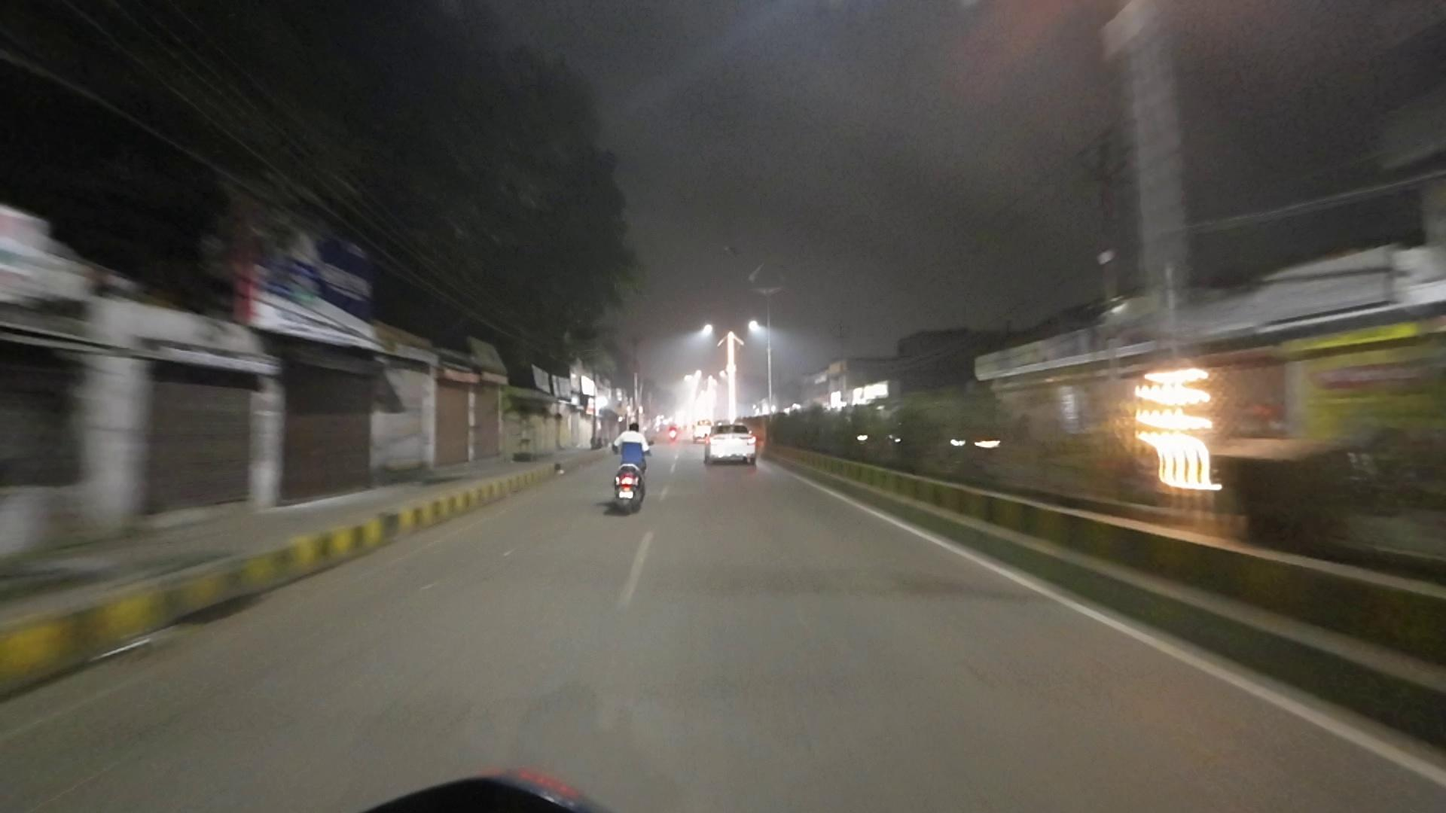streetlight: (721, 241, 764, 259)
